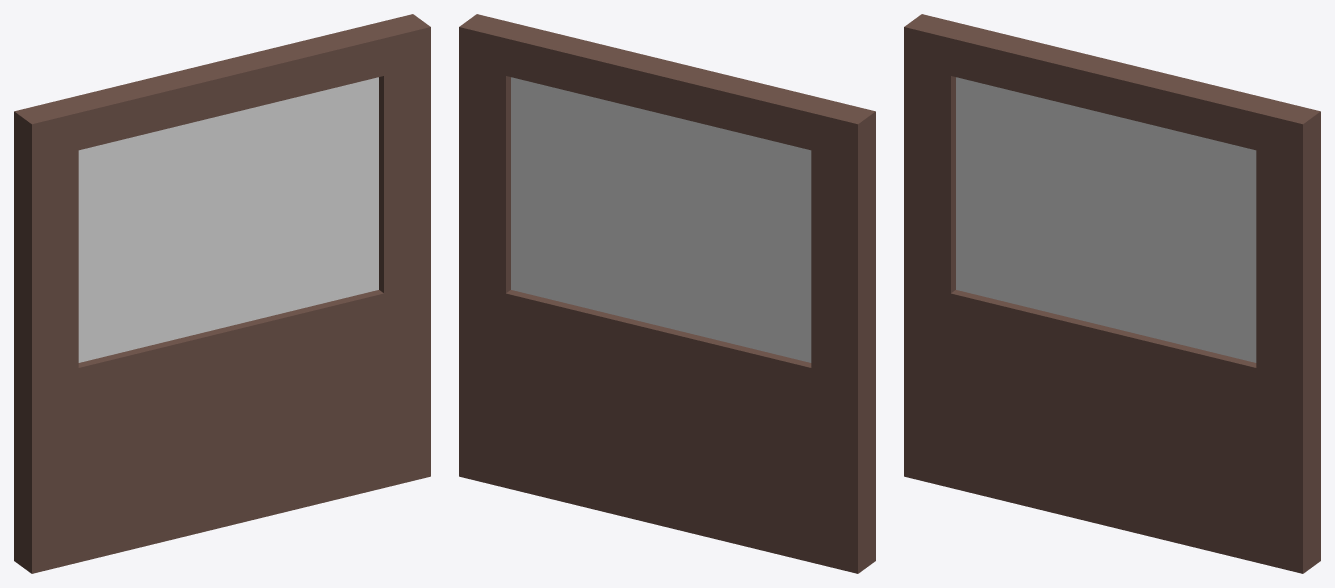
The model's file is Wall_Small.fbx.
3 renders of one model, left to right at view 1: azimuth 30°, elevation 25°; view 2: azimuth 150°, elevation 25°; view 3: azimuth 330°, elevation 25°, orthographic.
Visible parts, largest first — view 1: Cube; view 2: Cube; view 3: Cube.
Part boxes in pixels (<box>): Cube: <box>14,14,430,573</box>; Cube: <box>459,14,875,573</box>; Cube: <box>904,14,1320,573</box>.
Size of the model in its own units: 650 by 700 by 50.
